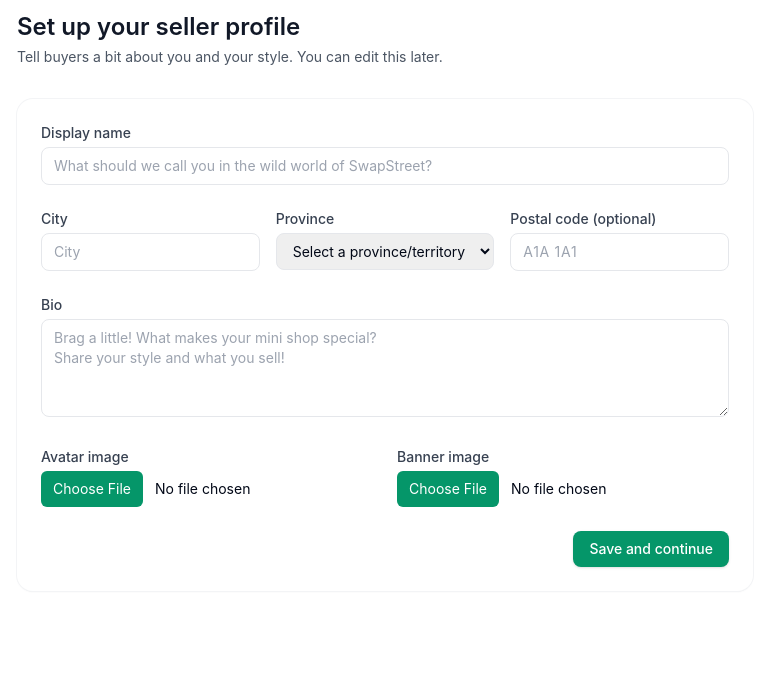
it: SellerOnboardingPage › shows error when postal code is invalid format
The width and height of the screenshot is (771, 679).
Type "Seller Name" into the field with placeholder "What should we call you in the wild world of SwapStreet?". click: (385, 166)
box: 41,147 -> 729,185
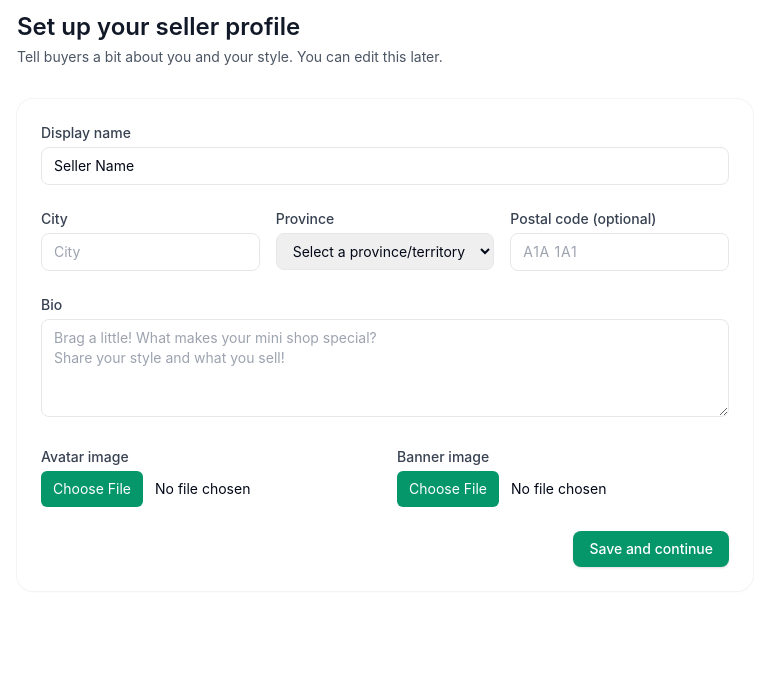
Type "Toronto" into the field with placeholder "City". click: (150, 252)
box: 41,233 -> 260,271
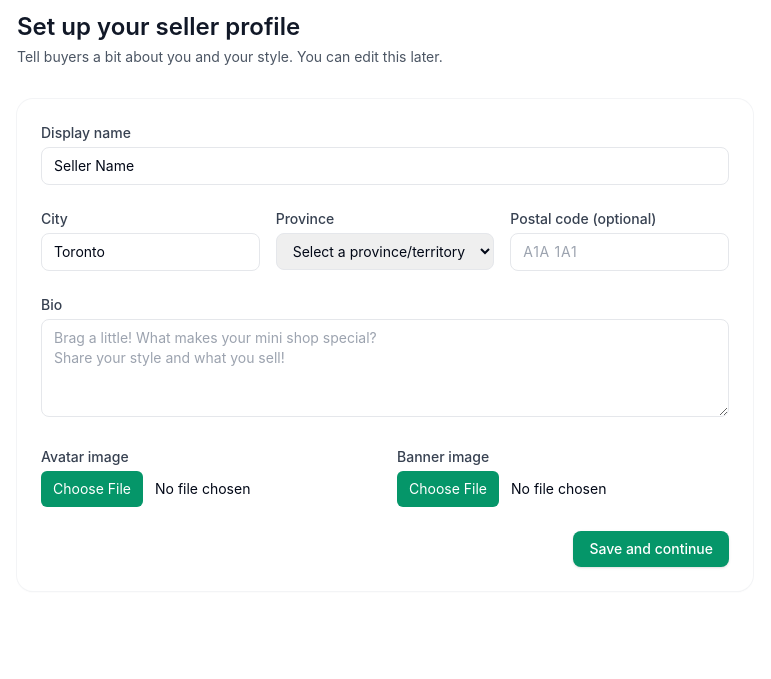
Select "Ontario (ON)" in the dropdown. click: (385, 252)
box: 276,233 -> 494,270
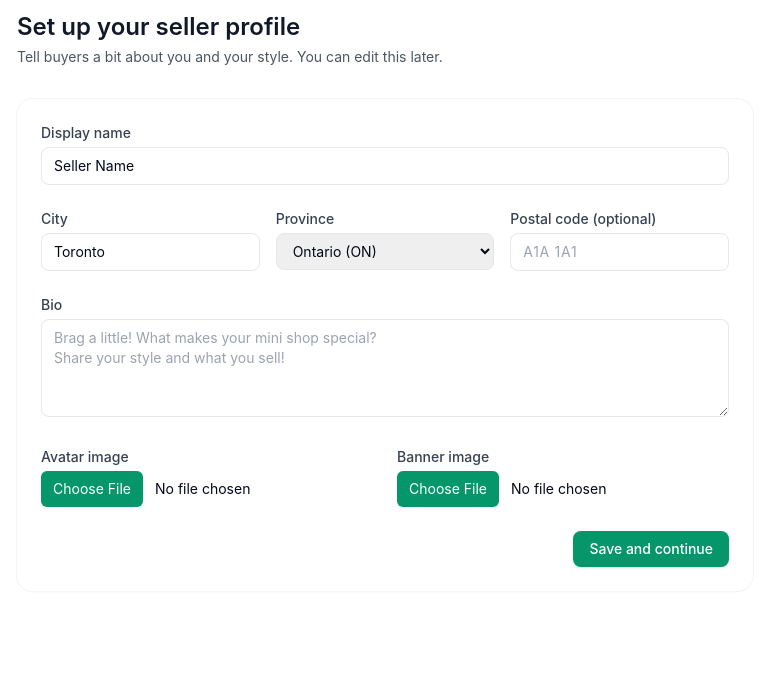
Type "INVALID" into the field with placeholder "A1A 1A1". click: (620, 252)
box: 510,233 -> 729,271
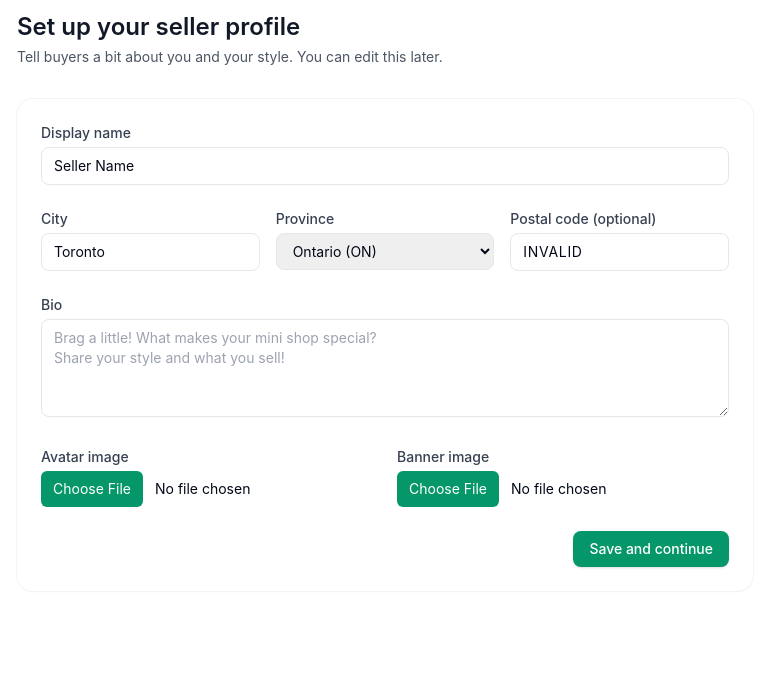
Submit the form named "save and continue"
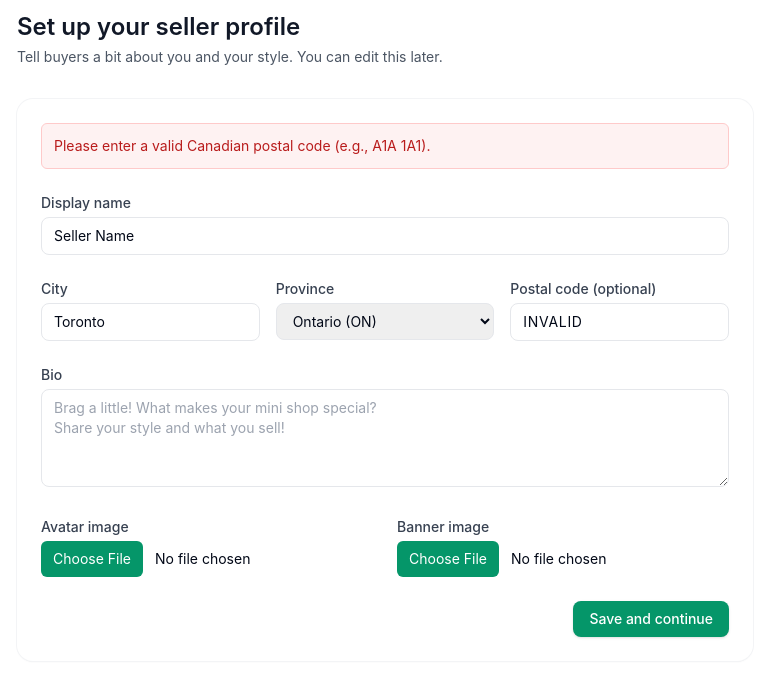
Result: the text "Please enter a valid Canadian postal code (e.g., A1A 1A1)." is shown at 41,123 -> 729,169
